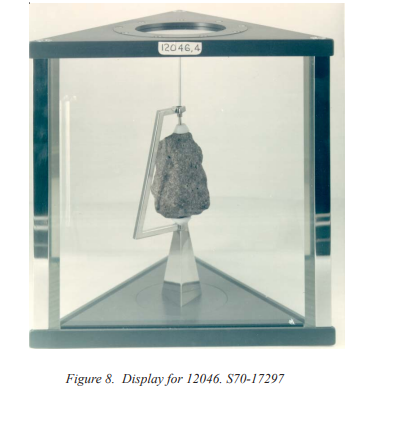Basalt: (156, 130, 207, 221)
